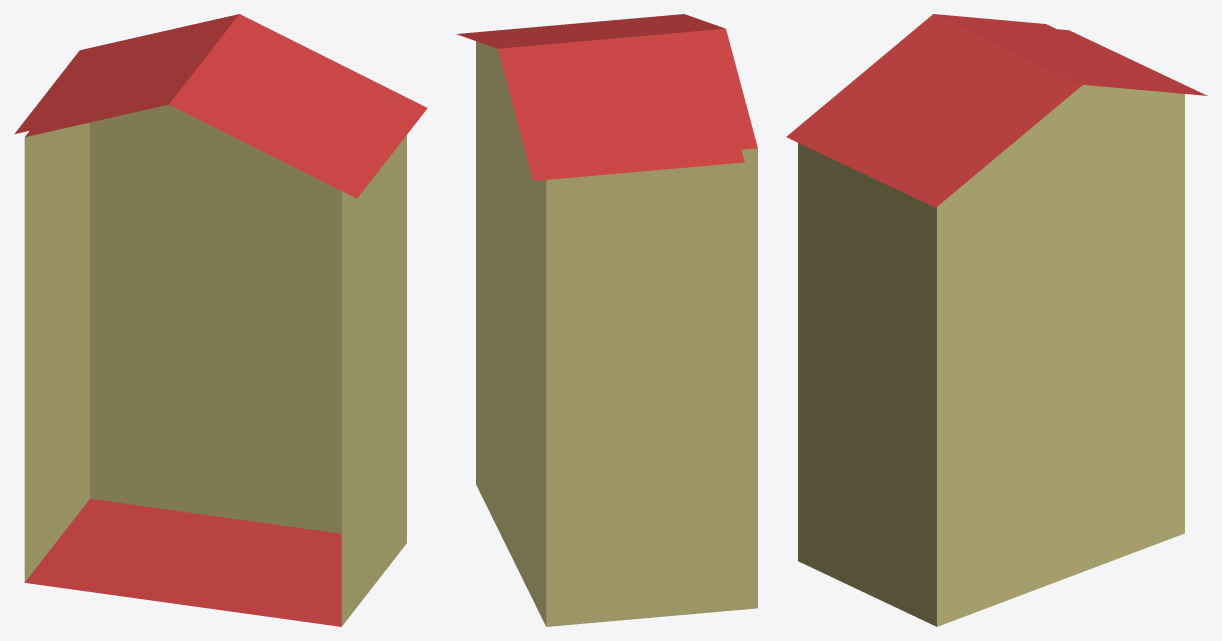
The picture shows the model from 3 angles, left to right: view 1: azimuth 30°, elevation 25°; view 2: azimuth 150°, elevation 25°; view 3: azimuth 270°, elevation 25°; orthographic projection. The views are drawn at different scales.
Size of the model in its own units: 6.16 by 6.5 by 8.43.
